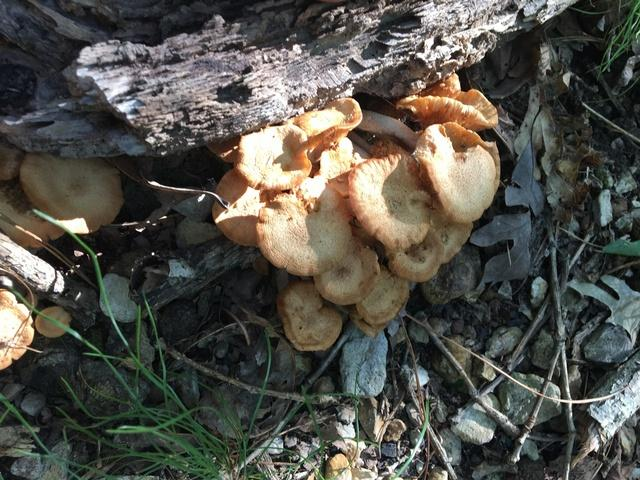Edible Mushroom: (209, 72, 501, 351), (0, 141, 127, 266)
